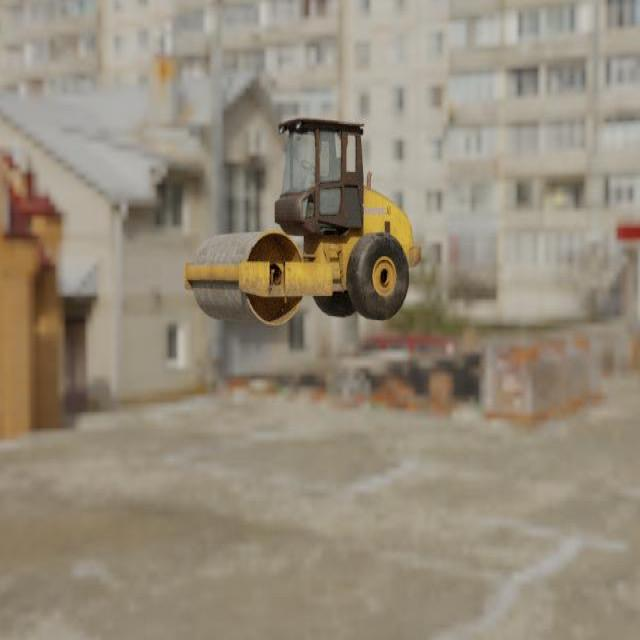Roller: (183, 116, 421, 325)
